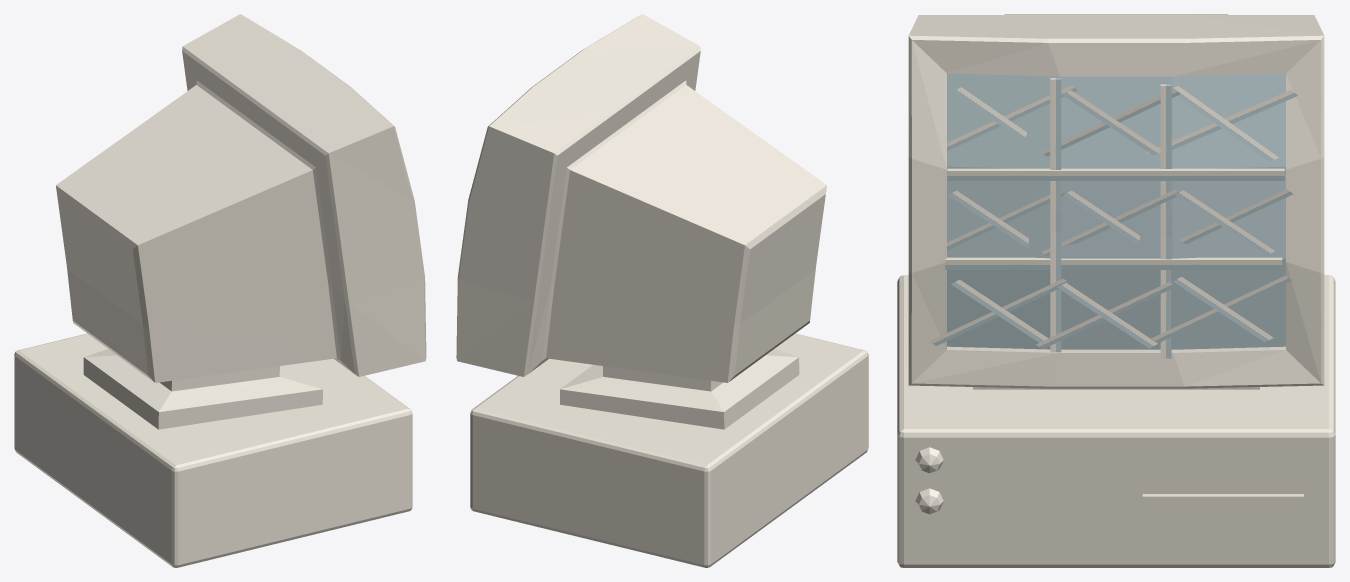
File: ticTacComp.glb
The picture shows the model from 3 angles, left to right: view 1: azimuth 30°, elevation 25°; view 2: azimuth 150°, elevation 25°; view 3: azimuth 270°, elevation 25°; orthographic projection. The views are drawn at different scales.
Parts seen in each view (by area): view 1: Computer; view 2: Computer; view 3: Computer, Screen, Game, Cross_C3, Cross_C9, Cross_C8, Cross_C7, Cross_C2, Cross_C6, Cross_C1, Cross_C5, Cross_C4 (+2 smaller).
Part boxes in pixels (x1=…): Computer: x1=14, y1=14, x2=426, y2=567; Computer: x1=456, y1=14, x2=868, y2=567; Computer: x1=897, y1=14, x2=1335, y2=567; Screen: x1=947, y1=73, x2=1285, y2=349; Game: x1=945, y1=78, x2=1284, y2=358; Cross_C3: x1=1146, y1=86, x2=1297, y2=161; Cross_C9: x1=1151, y1=275, x2=1291, y2=343; Cross_C8: x1=1036, y1=282, x2=1176, y2=349; Cross_C7: x1=929, y1=278, x2=1069, y2=345; Cross_C2: x1=1040, y1=89, x2=1180, y2=156; Cross_C6: x1=1174, y1=189, x2=1293, y2=255; Cross_C1: x1=947, y1=85, x2=1077, y2=150; Cross_C5: x1=1041, y1=189, x2=1178, y2=255; Cross_C4: x1=947, y1=190, x2=1065, y2=250.
Bounding box in the file's own units: 44.34 × 62.72 × 46.69.
1 material, 1 textured.
